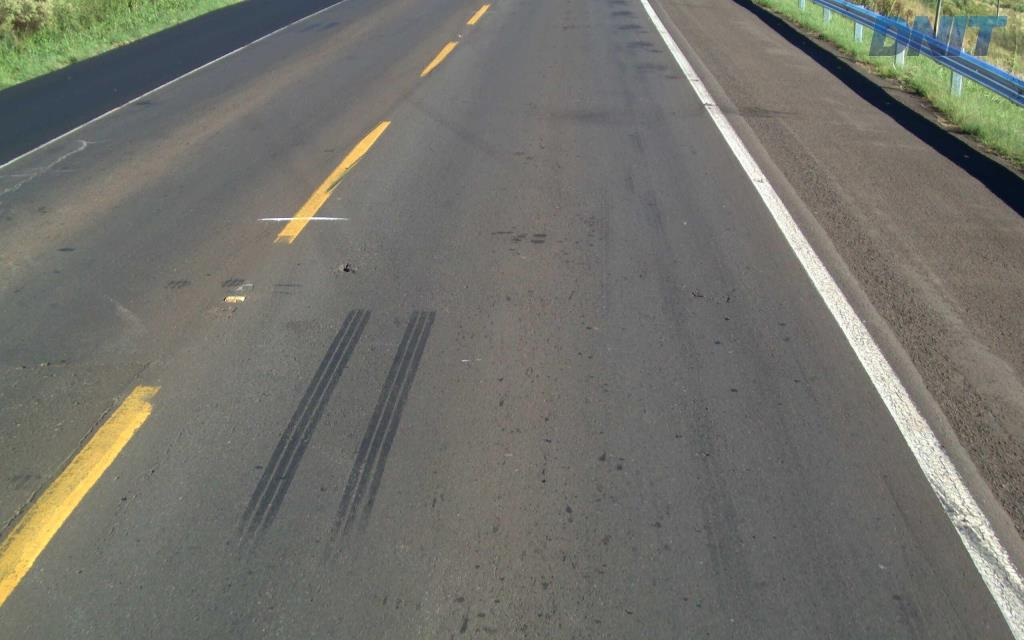pothole: (336, 258, 357, 278)
